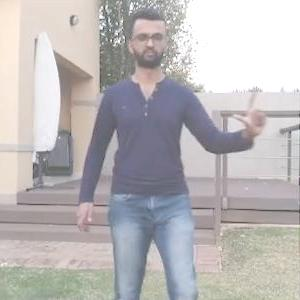land_hand: (228, 86, 273, 143)
